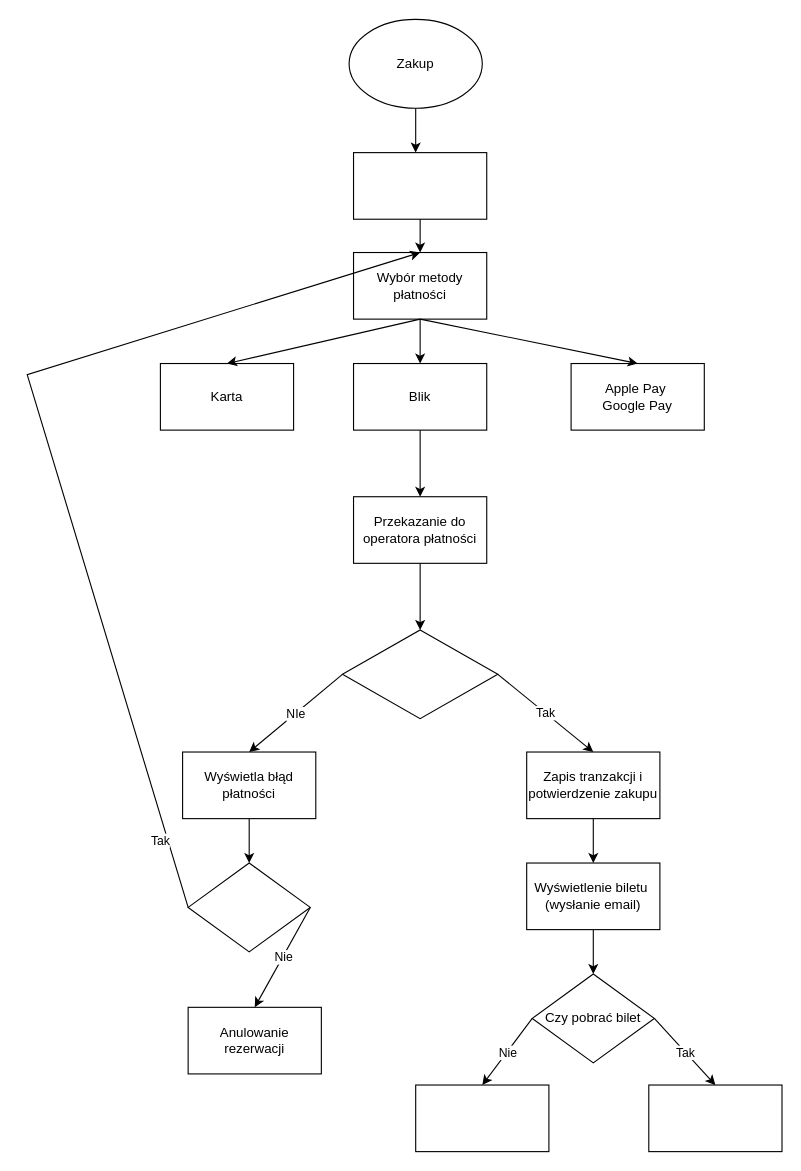
Some shapes in this 801 by 1171 pixel diagram are drawn without their labels. Each missing label, with the centre of its shape:
"Pobieranie biletu" goes at [715,1118].
"Ponowić" goes at [248,907].
"powrót do strony głównej" goes at [482,1118].
"Transakcja zaakceptowana?" goes at [419,674].
"Wyświetlenie ekranu płatności" goes at [419,185].
